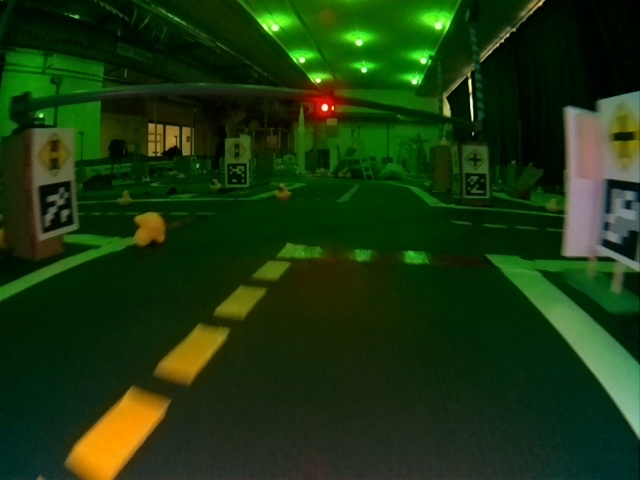Duckie: (133, 212, 162, 247), (275, 183, 292, 200), (117, 190, 132, 204), (546, 197, 559, 212), (210, 179, 220, 190)
Intersection sign: (603, 101, 639, 173), (466, 148, 485, 170)
QR code: (598, 179, 639, 264), (38, 181, 77, 235), (463, 172, 485, 196), (227, 162, 246, 186)
Signal sign: (36, 134, 72, 177), (227, 140, 246, 160)
Traffic light: (313, 98, 335, 119)
